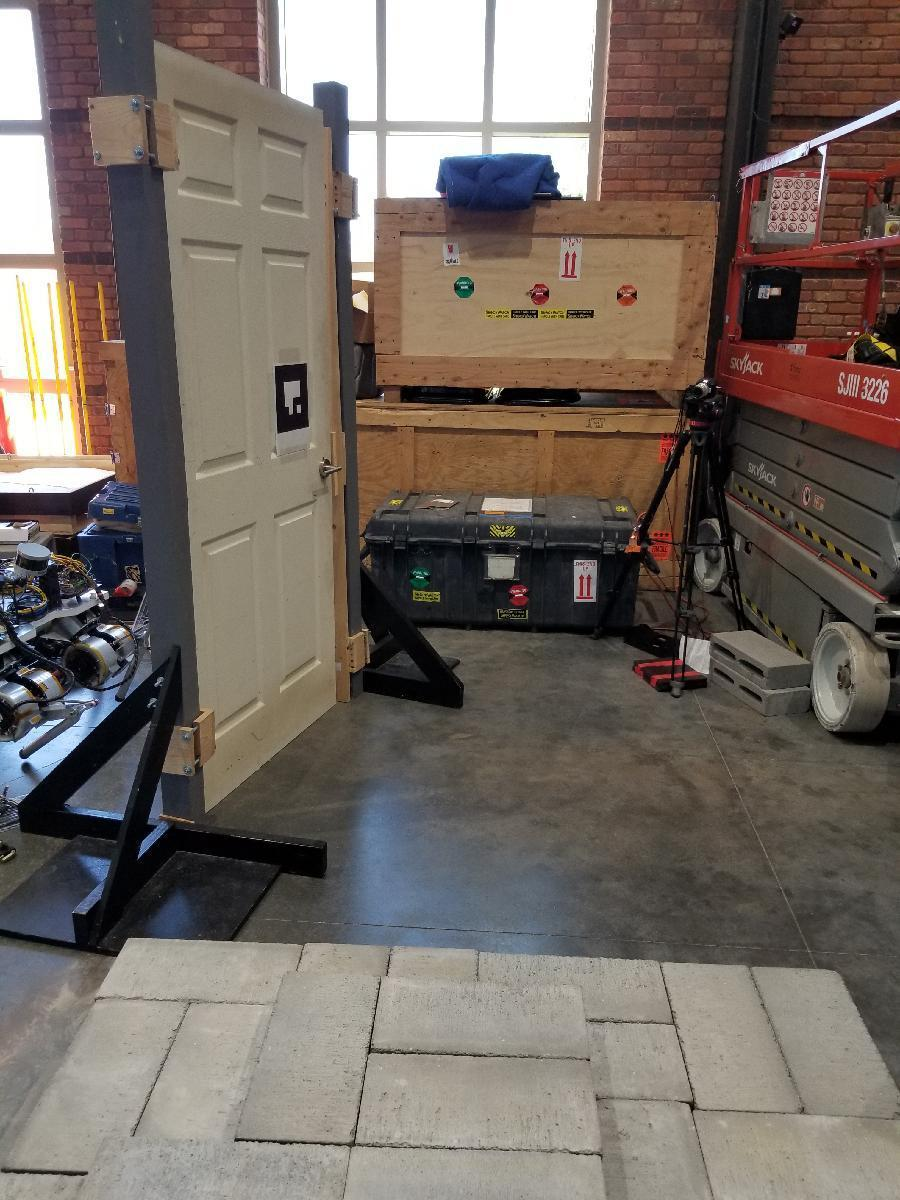door: (156, 56, 344, 794)
